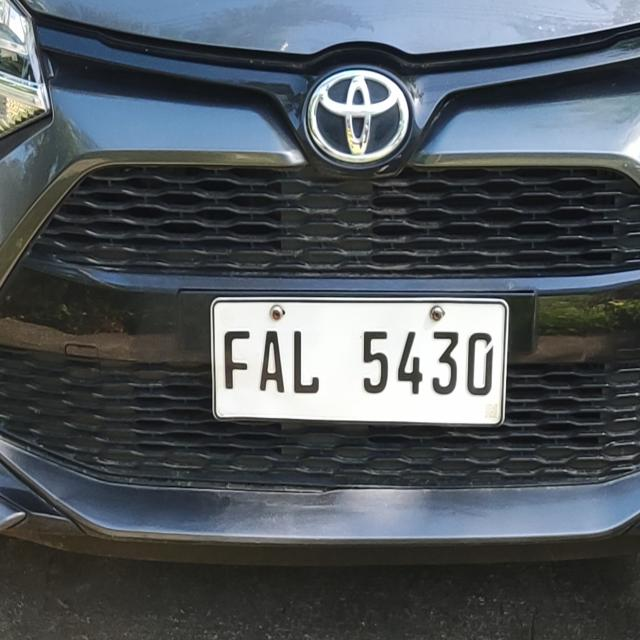plate: (205, 290, 514, 434)
